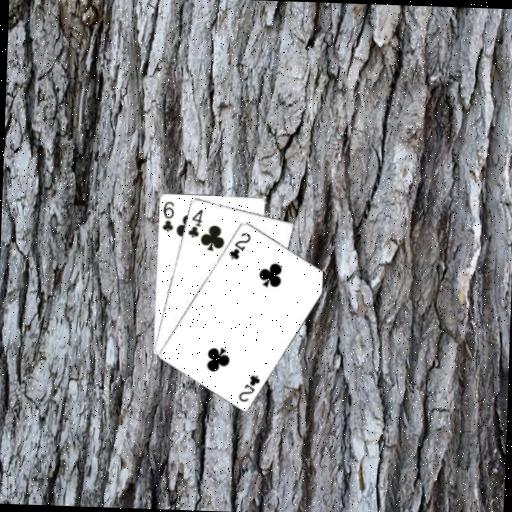2C: (225, 228, 252, 261), (235, 371, 262, 404)
4C: (184, 205, 204, 239)
6C: (158, 197, 175, 233)
